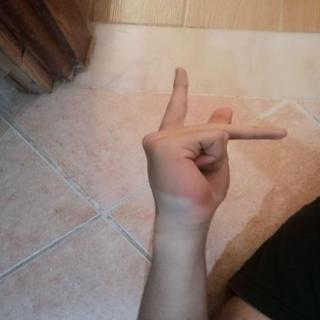DHAA: (132, 61, 300, 229)
